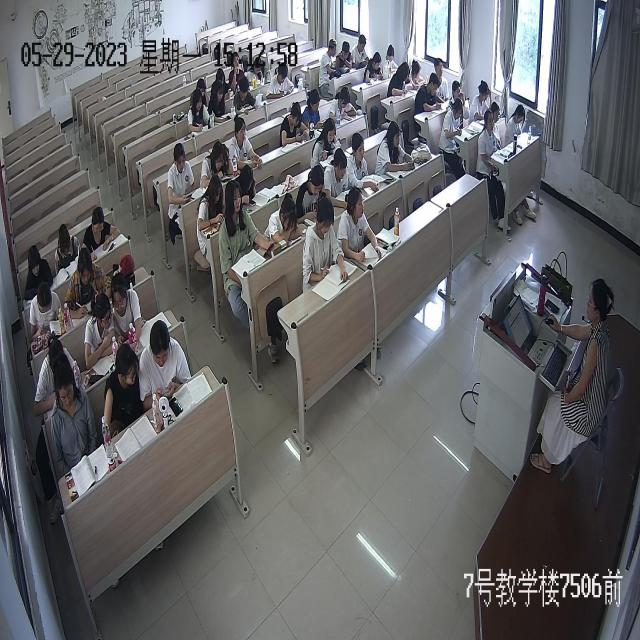distracted: (50, 362, 96, 464), (100, 342, 144, 438), (110, 270, 144, 352), (84, 292, 118, 366), (24, 243, 53, 299), (54, 223, 82, 275), (321, 36, 336, 81), (335, 42, 354, 75)
focused: (301, 192, 348, 292), (336, 184, 381, 264), (63, 248, 110, 316), (36, 335, 78, 410), (84, 203, 122, 258), (228, 117, 263, 173), (310, 114, 344, 169), (298, 162, 326, 225), (197, 175, 224, 240), (324, 149, 352, 209), (350, 134, 376, 194), (439, 101, 466, 149), (478, 111, 499, 168), (267, 63, 295, 103), (208, 79, 230, 129), (471, 79, 495, 121), (386, 61, 412, 99), (232, 77, 258, 115), (430, 55, 450, 102), (363, 49, 383, 87), (508, 105, 528, 142), (353, 34, 371, 72), (230, 53, 248, 88), (251, 58, 267, 90), (383, 45, 399, 75), (452, 83, 466, 114)
sleep: (264, 193, 300, 248)
using_phone: (219, 180, 274, 280), (140, 322, 191, 410), (377, 119, 417, 182), (30, 284, 64, 346), (169, 144, 196, 212), (203, 141, 234, 187), (281, 102, 312, 148), (414, 72, 444, 118), (188, 89, 214, 138), (329, 87, 359, 129), (301, 86, 326, 136), (235, 164, 259, 211), (408, 57, 431, 92), (214, 65, 234, 104)
